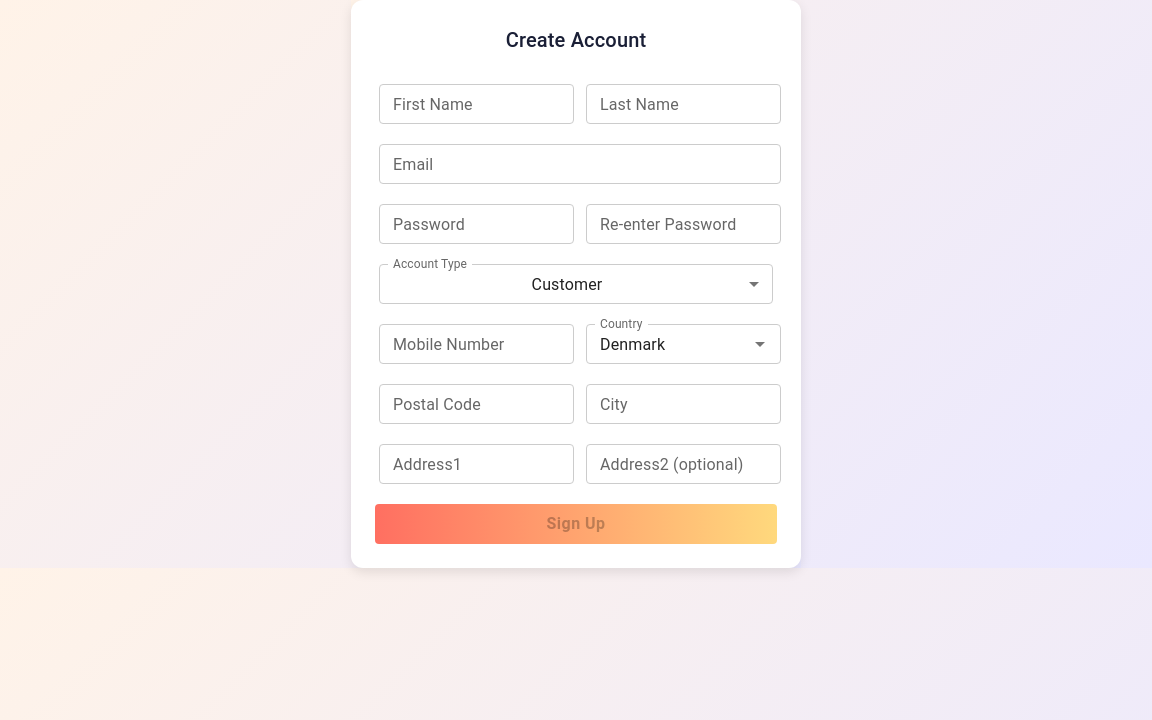
Register Component › renders artist-specific fields when accountType is artist
// select "Artist" account type
Press the mouse on the dropdown named "account type" at (567, 284), box x1=532 y1=274 x2=602 y2=294
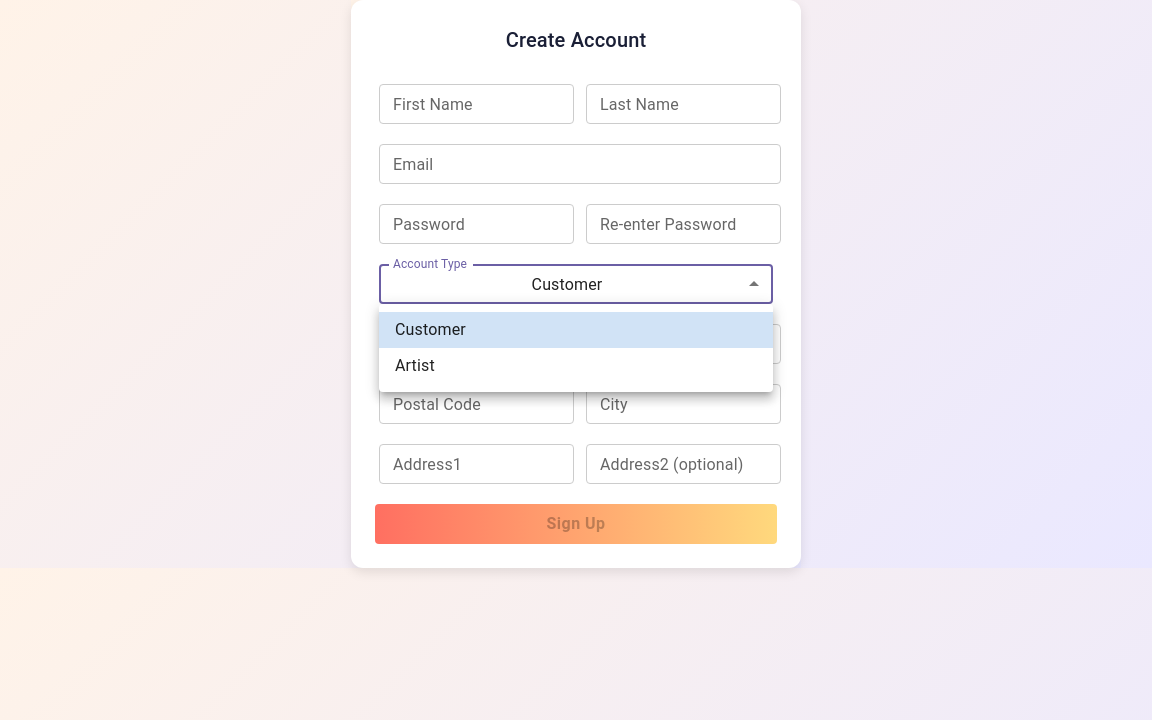
Click the option "Artist".
click(415, 366)  # box x1=395 y1=356 x2=435 y2=375
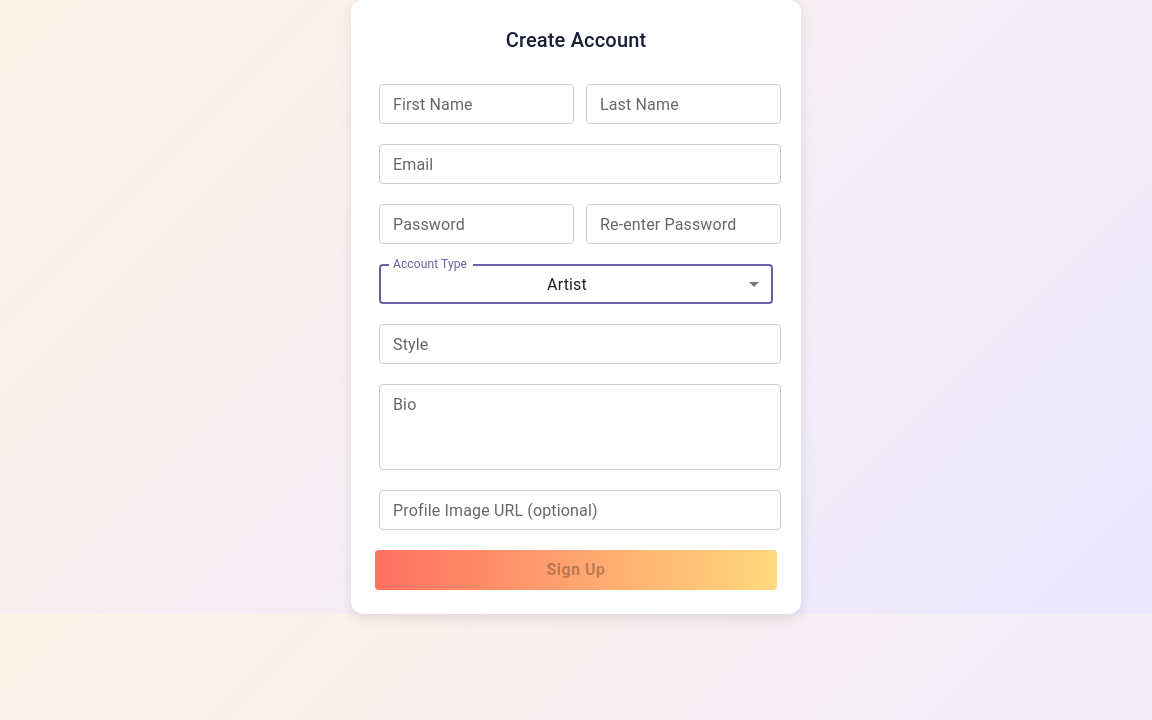
Check: the field labelled "Style" is shown, box x1=379 y1=324 x2=781 y2=364
Check: the text box labelled "Bio" is shown, box x1=393 y1=392 x2=767 y2=462
Check: the field labelled "Profile Image URL (optional)" is shown, box x1=379 y1=490 x2=781 y2=530
